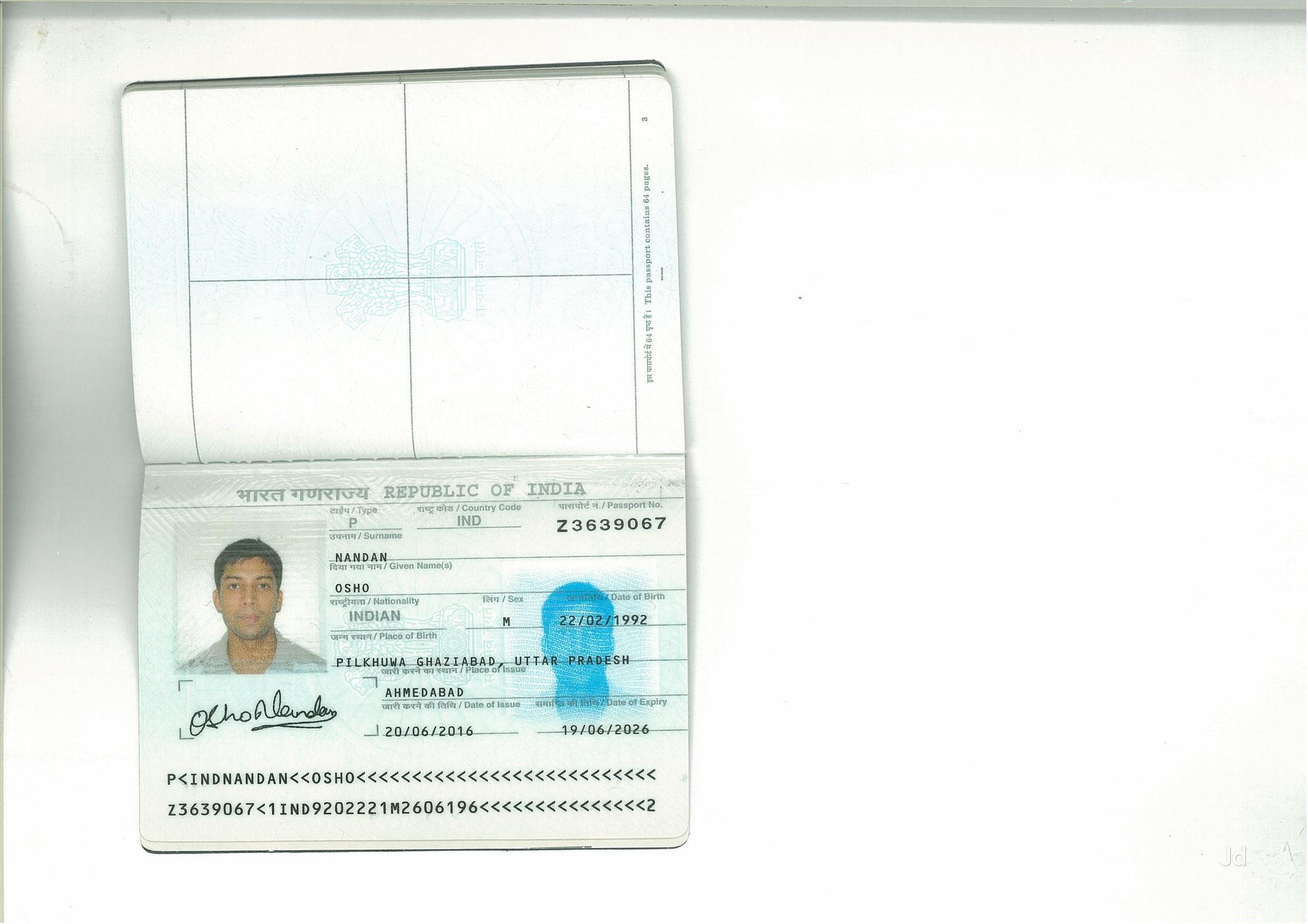DOB: (555, 610, 654, 631)
Surname: (333, 546, 396, 564)
country_code: (453, 512, 492, 532)
date_of_expiry: (556, 714, 655, 747)
date_of_issue: (382, 717, 480, 740)
details: (153, 762, 678, 827)
name: (331, 574, 376, 596)
nationality: (345, 606, 409, 627)
passport_no: (550, 513, 673, 536)
photo: (173, 520, 328, 678)
place_of_birth: (333, 645, 636, 667)
place_of_issue: (383, 682, 470, 703)
sex: (493, 610, 519, 636)
sign: (184, 690, 345, 743)
type: (343, 513, 366, 532)
